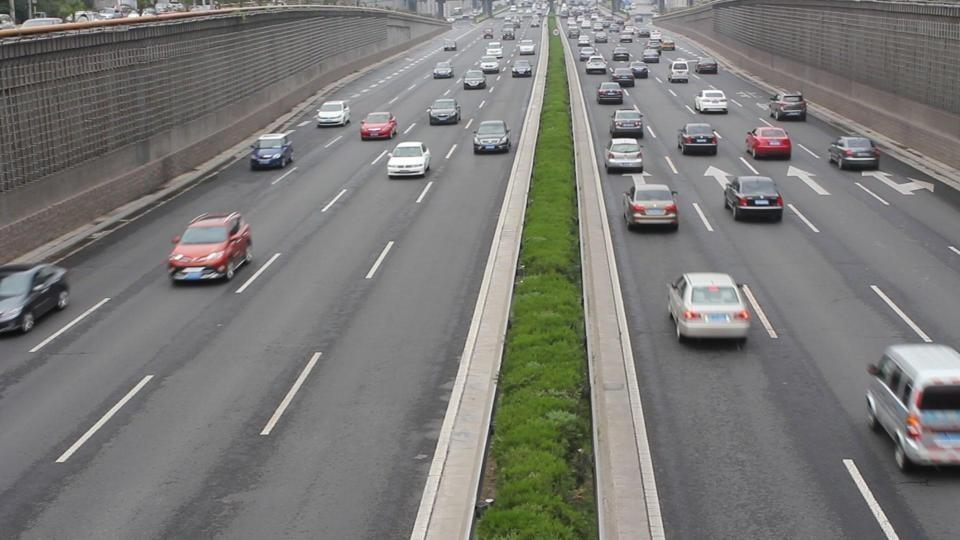car: (865, 342, 960, 475), (164, 210, 255, 284), (665, 271, 753, 346), (0, 264, 72, 335), (723, 174, 784, 223), (621, 183, 680, 231), (827, 134, 881, 171), (386, 140, 433, 178), (745, 123, 793, 159), (249, 133, 295, 170), (677, 122, 720, 156), (604, 138, 645, 173), (472, 119, 511, 154), (608, 108, 645, 140), (359, 111, 399, 140), (427, 97, 462, 125), (316, 100, 352, 127), (694, 88, 729, 114), (595, 83, 623, 105), (463, 68, 487, 90), (433, 61, 454, 79), (511, 60, 533, 77)
